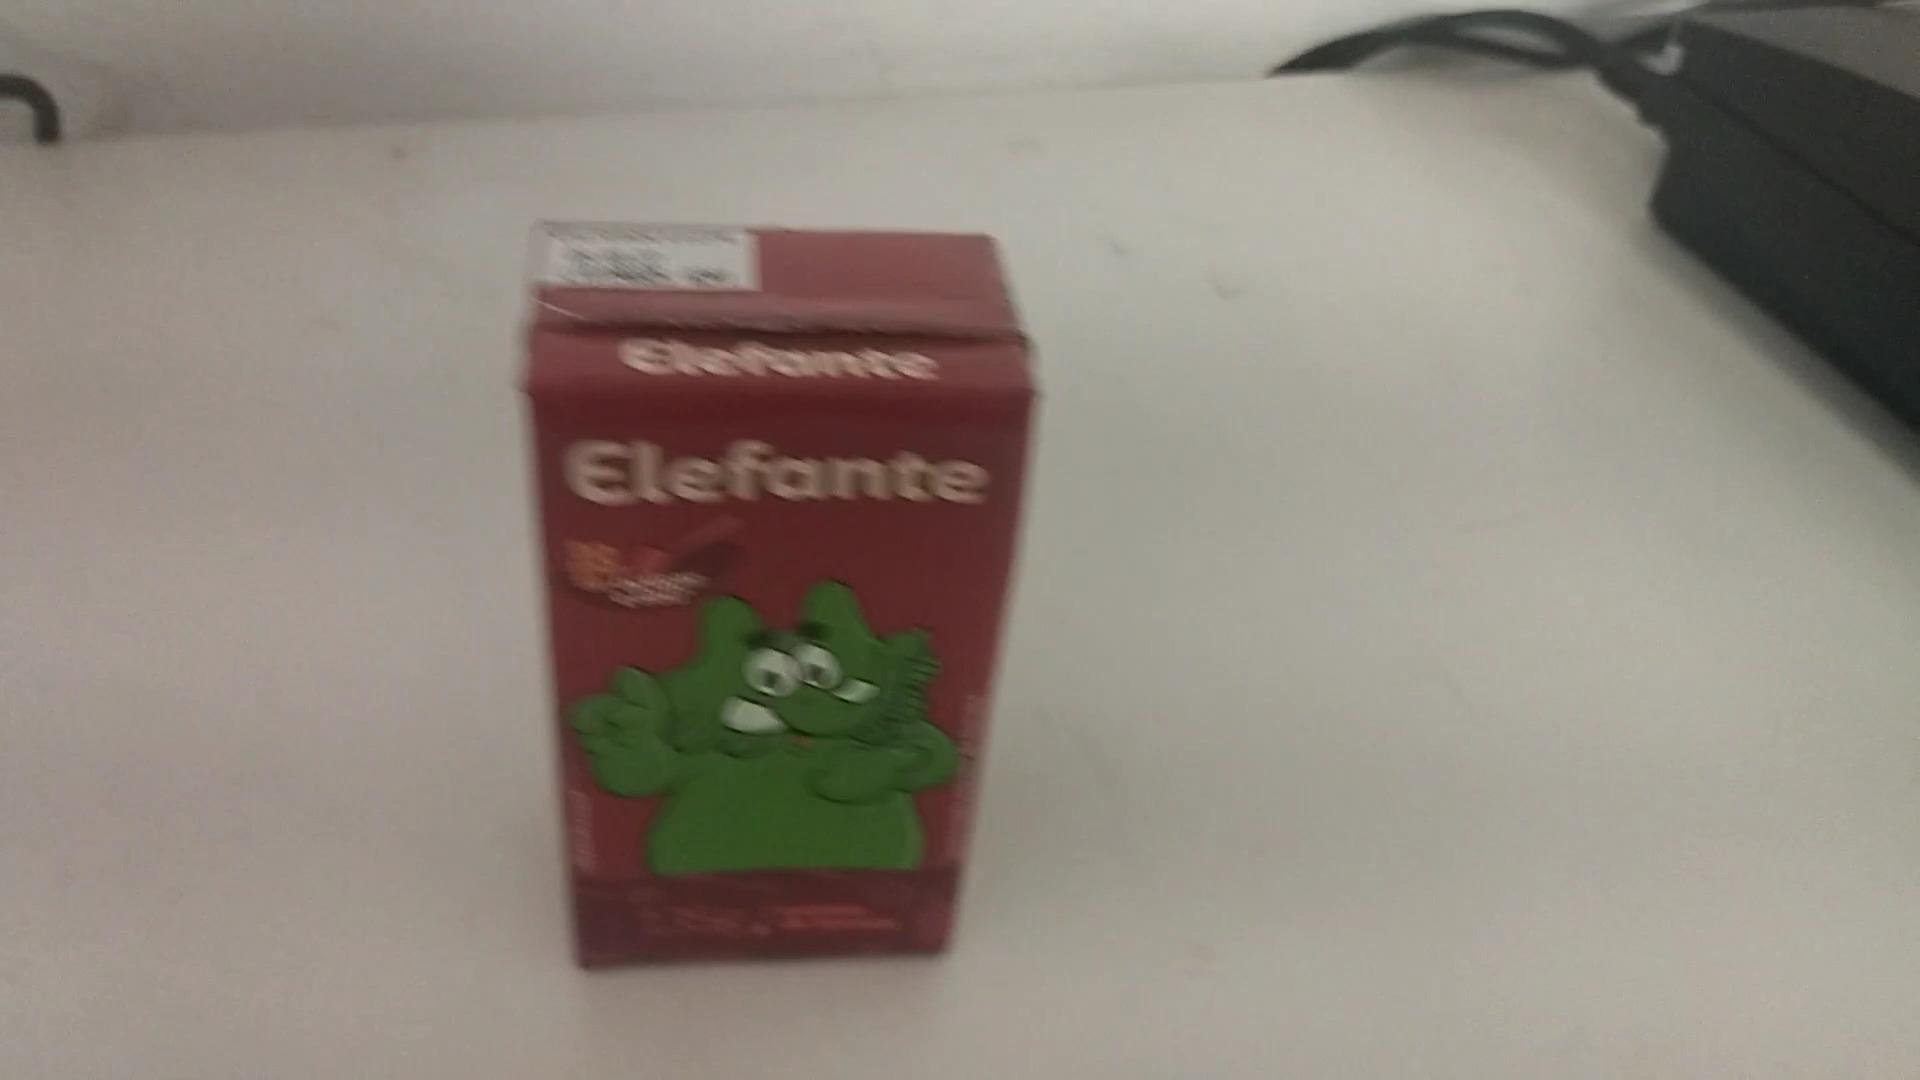tomate: (501, 186, 1073, 972)
